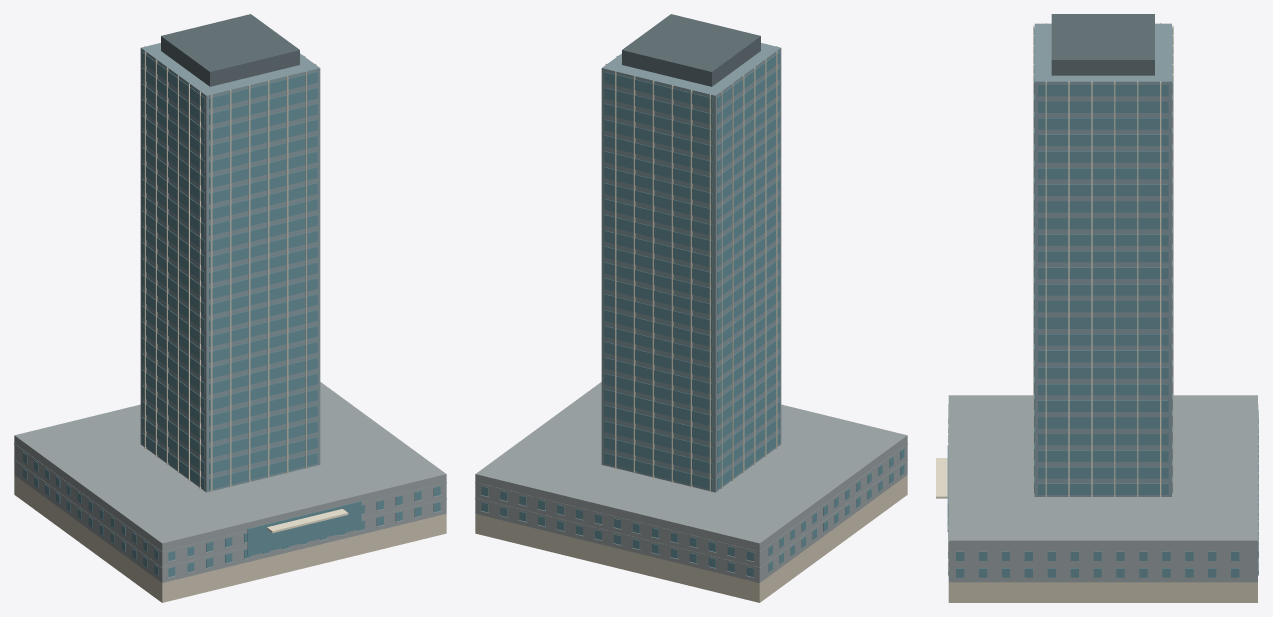
The model's file is civic-tower-1.glb.
The picture shows the model from 3 angles, left to right: view 1: azimuth 30°, elevation 25°; view 2: azimuth 150°, elevation 25°; view 3: azimuth 270°, elevation 25°; orthographic projection. The views are drawn at different scales.
Bounding box in the file's own units: 60.16 × 95 × 56.34.
